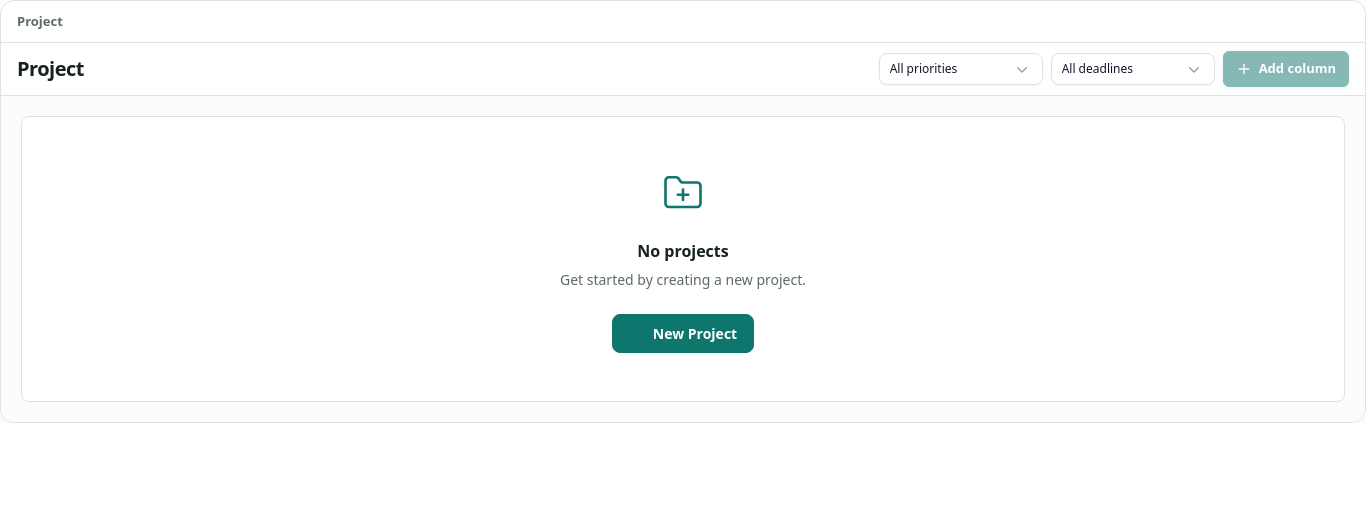
ProjectPage project workspace › renders a centered project empty state and opens its create flow
This screenshot has width=1366, height=527.
Expected: the heading "No projects" is shown, [637,238,729,262]
Expected: the text "Get started by creating a new project." is shown, [560,268,806,290]
Click the button "New Project" at (683, 333), box [612,314,754,352]
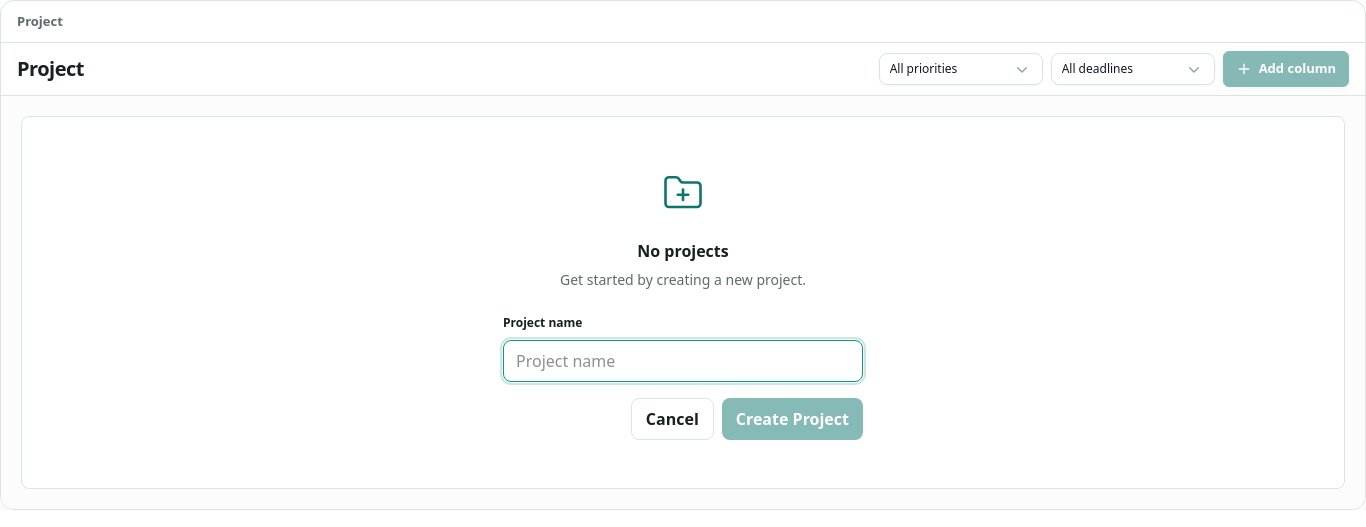
Expected: the button "Create Project" is shown, [722,398,863,440]
